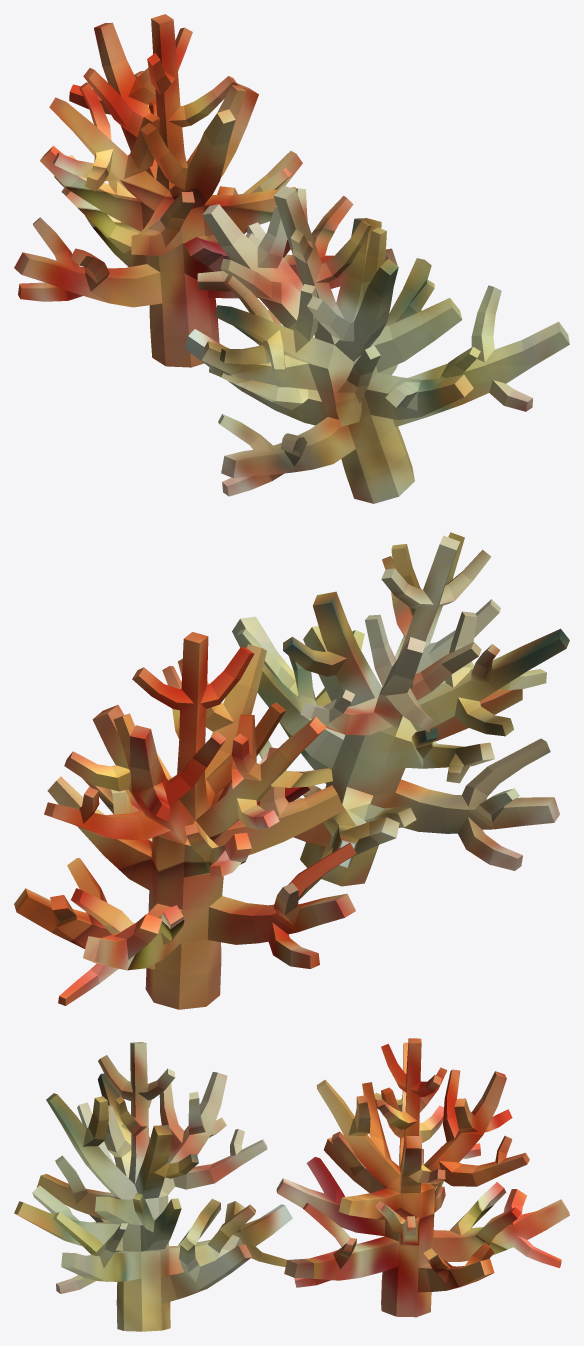
File: plant_49.fbx
The picture shows the model from 3 angles, top to bottom: view 1: azimuth 30°, elevation 25°; view 2: azimuth 150°, elevation 25°; view 3: azimuth 270°, elevation 25°; orthographic projection. The views are drawn at different scales.
Parts seen in each view (by area): view 1: Cylinder362, Cylinder375; view 2: Cylinder375, Cylinder362; view 3: Cylinder375, Cylinder362.
Part boxes in pixels (left/top/right/bottom): Cylinder362: left=184, top=186, right=569, bottom=503; Cylinder375: left=14, top=14, right=397, bottom=367; Cylinder375: left=14, top=632, right=356, bottom=1009; Cylinder362: left=227, top=532, right=569, bottom=899; Cylinder375: left=276, top=1038, right=569, bottom=1317; Cylinder362: left=14, top=1042, right=292, bottom=1331.
Size of the model in its own units: 3.71 by 3.84 by 6.94.
